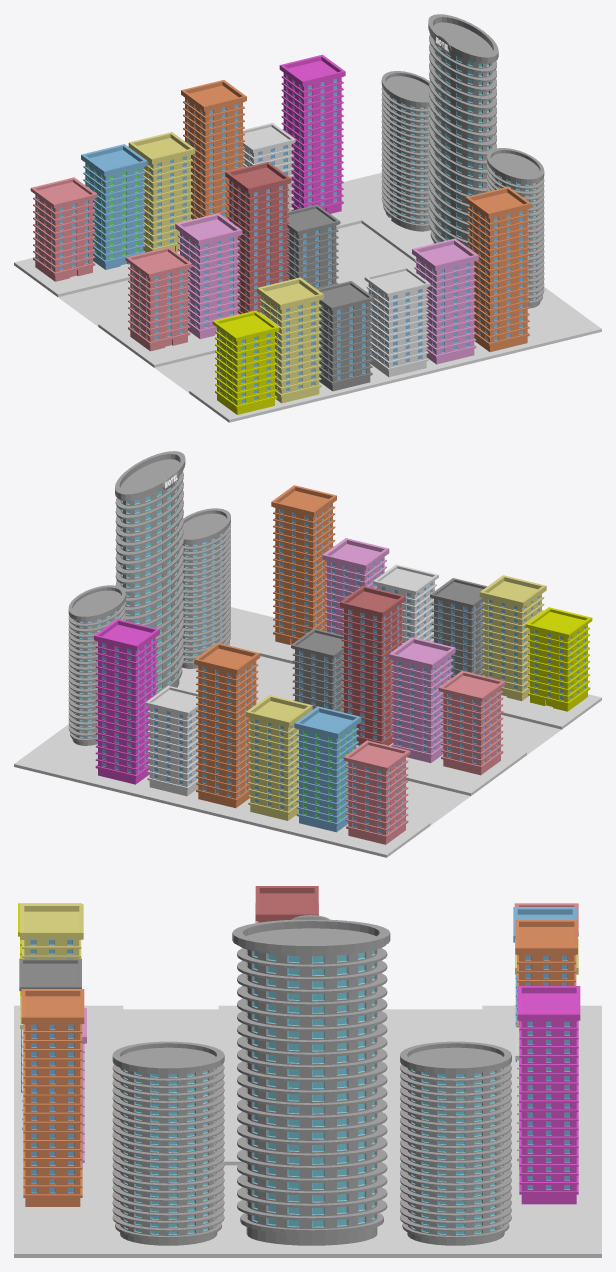
The model's file is uploads_files_3580083_free-building.fbx.
3 views of the same model, one above another, from view 1: azimuth 30°, elevation 25°; view 2: azimuth 150°, elevation 25°; view 3: azimuth 270°, elevation 25° (orthographic). The views are drawn at different scales.
Parts seen in each view (by area): view 1: Plane.005, Circle.002, Plane.018, Plane.007, Circle.004, Plane.012, Plane.004, Plane.001, Plane.017, Plane.009, Plane.014, Plane.015 (+8 smaller); view 2: Plane.005, Circle.002, Plane.007, Plane.004, Plane.018, Plane.012, Circle.001, Plane.001, Plane.009, Plane.006, Plane.002, Plane.008 (+8 smaller); view 3: Circle.002, Plane.005, Circle.001, Circle.004, Plane.007, Plane.018, Plane.004, Plane.014, Plane.012, Plane.016, Plane.001, Plane.017.
Part boxes in pixels (left/top/right/bottom): Plane.005: left=14, top=172, right=601, bottom=422; Circle.002: left=428, top=14, right=498, bottom=247; Plane.018: left=465, top=187, right=531, bottom=351; Plane.007: left=279, top=54, right=345, bottom=213; Circle.004: left=381, top=71, right=430, bottom=231; Plane.012: left=225, top=161, right=291, bottom=314; Plane.004: left=181, top=80, right=246, bottom=220; Plane.001: left=81, top=144, right=147, bottom=269; Plane.017: left=412, top=238, right=478, bottom=364; Plane.009: left=175, top=213, right=242, bottom=339; Plane.014: left=257, top=277, right=323, bottom=403; Plane.015: left=364, top=266, right=430, bottom=377; Plane.005: left=14, top=607, right=601, bottom=857; Circle.002: left=115, top=451, right=185, bottom=693; Plane.007: left=94, top=619, right=159, bottom=784; Plane.004: left=194, top=643, right=260, bottom=808; Plane.018: left=271, top=485, right=336, bottom=644; Plane.012: left=340, top=585, right=405, bottom=745; Circle.001: left=182, top=508, right=230, bottom=668; Plane.001: left=294, top=706, right=361, bottom=832; Plane.009: left=389, top=637, right=455, bottom=762; Plane.006: left=246, top=695, right=312, bottom=820; Plane.002: left=343, top=740, right=410, bottom=844; Plane.008: left=438, top=671, right=505, bottom=775; Circle.002: left=232, top=915, right=390, bottom=1245; Plane.005: left=14, top=1005, right=601, bottom=1257; Circle.001: left=112, top=1041, right=224, bottom=1245; Circle.004: left=400, top=1041, right=511, bottom=1245; Plane.007: left=517, top=986, right=580, bottom=1204; Plane.018: left=21, top=989, right=84, bottom=1206; Plane.004: left=515, top=920, right=577, bottom=1027; Plane.014: left=20, top=904, right=83, bottom=958; Plane.012: left=255, top=886, right=318, bottom=922; Plane.016: left=19, top=958, right=81, bottom=1092; Plane.001: left=513, top=907, right=576, bottom=1061; Plane.017: left=82, top=1008, right=86, bottom=1167.
Size of the model in its own units: 2136 by 1240 by 2136.
